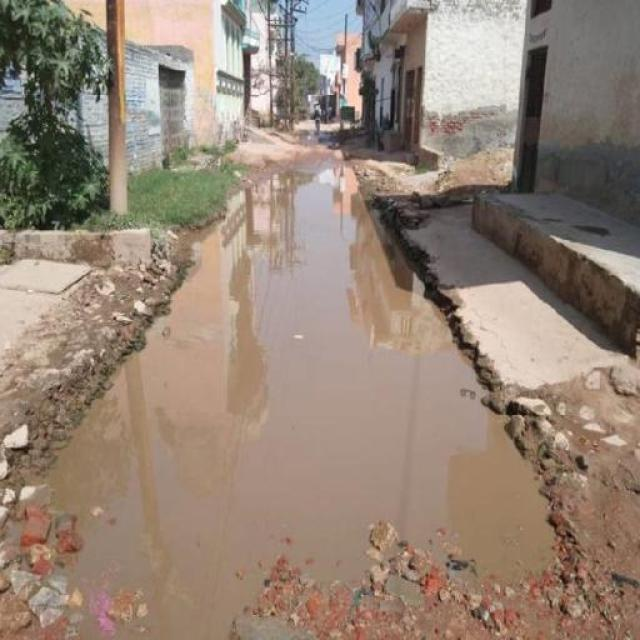puddle: (89, 402, 545, 554), (255, 174, 396, 590), (192, 241, 428, 472), (128, 361, 477, 424)
